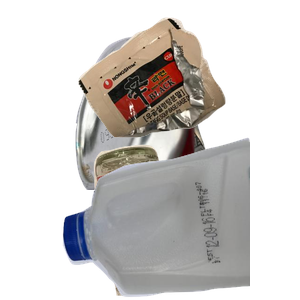glass: (91, 142, 260, 300)
metal: (73, 34, 285, 214)
plastic: (60, 135, 300, 300)
trash: (76, 15, 300, 145)
